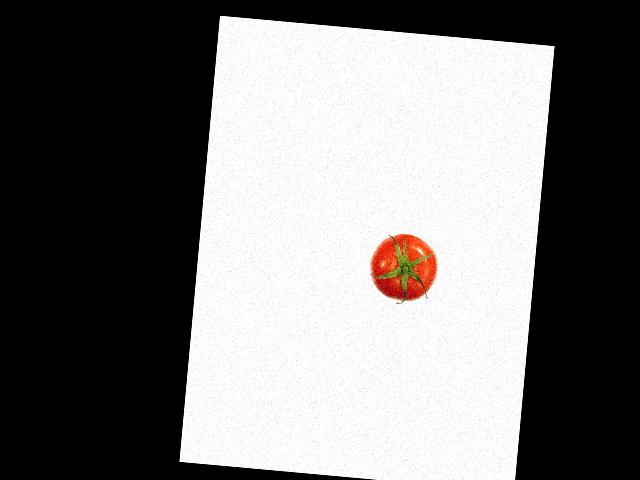tomato: (367, 230, 439, 303)
